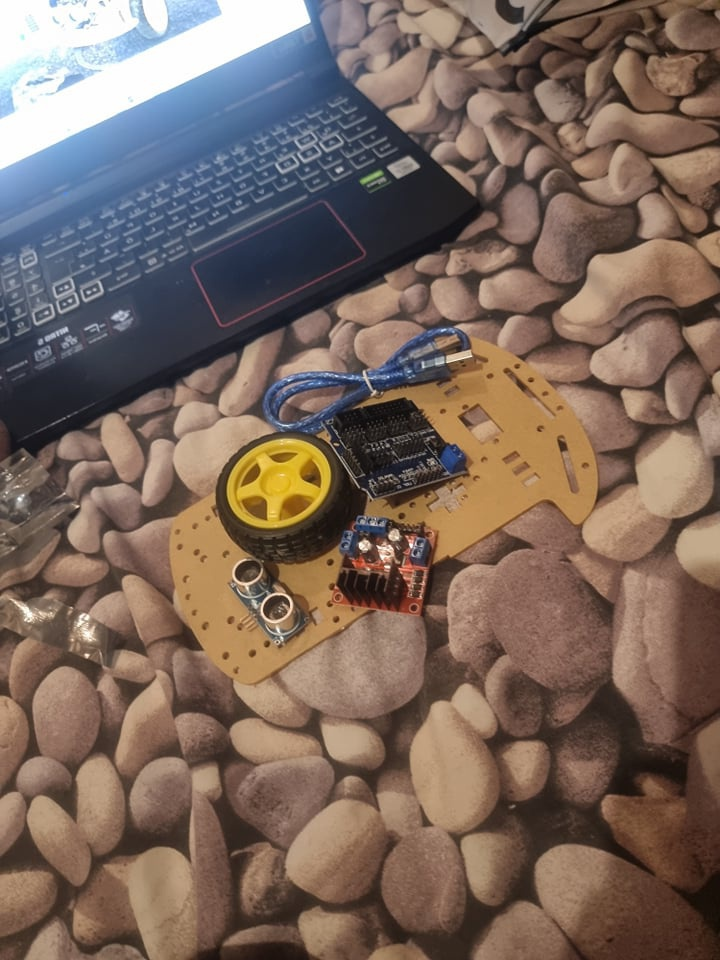5V EXPANSION: (318, 396, 472, 500)
MOTOR: (331, 513, 442, 616)
SENSOR: (224, 552, 307, 647)
